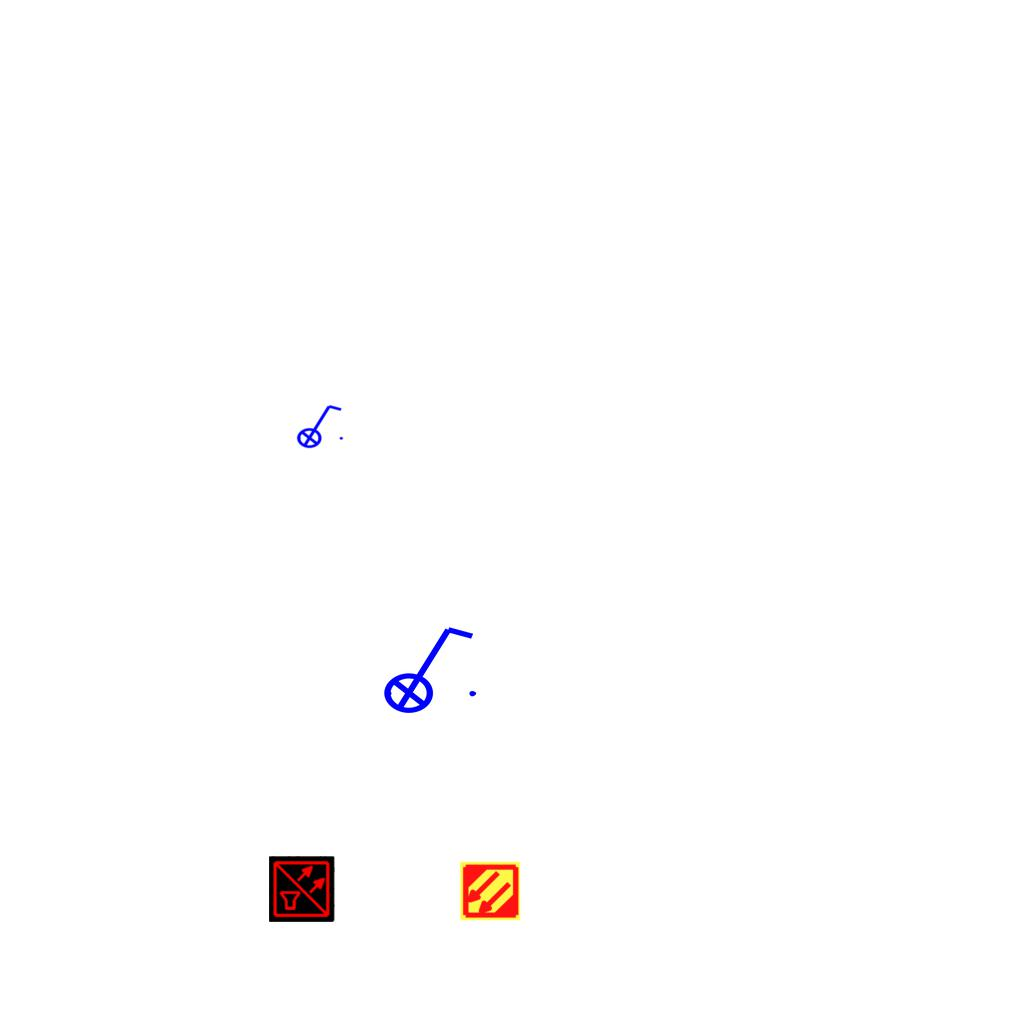ASR_Ansaugrauchmelder: (459, 860, 521, 922)
Ausschalter_beleuchtet: (370, 619, 482, 715), (290, 401, 346, 449)
OKW_Multisensormelder_(Kombination_optischer_Rauch-Kahlenmonoxid_Waerme-Melder): (269, 856, 335, 922)
